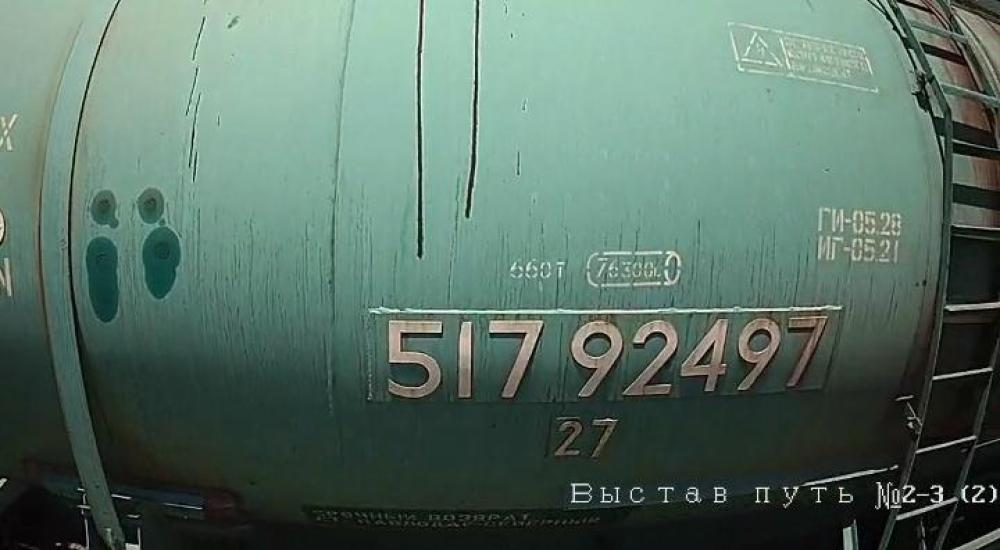Wagon-number: (378, 311, 835, 404)
